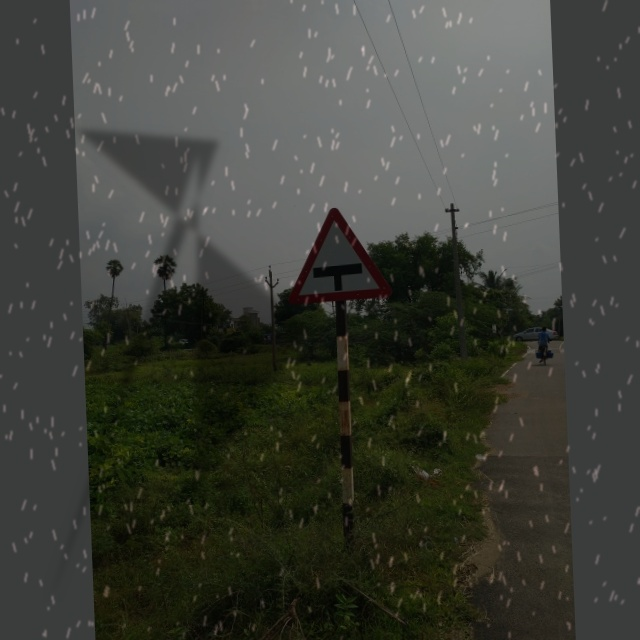T_Intersection: (271, 186, 395, 314)
